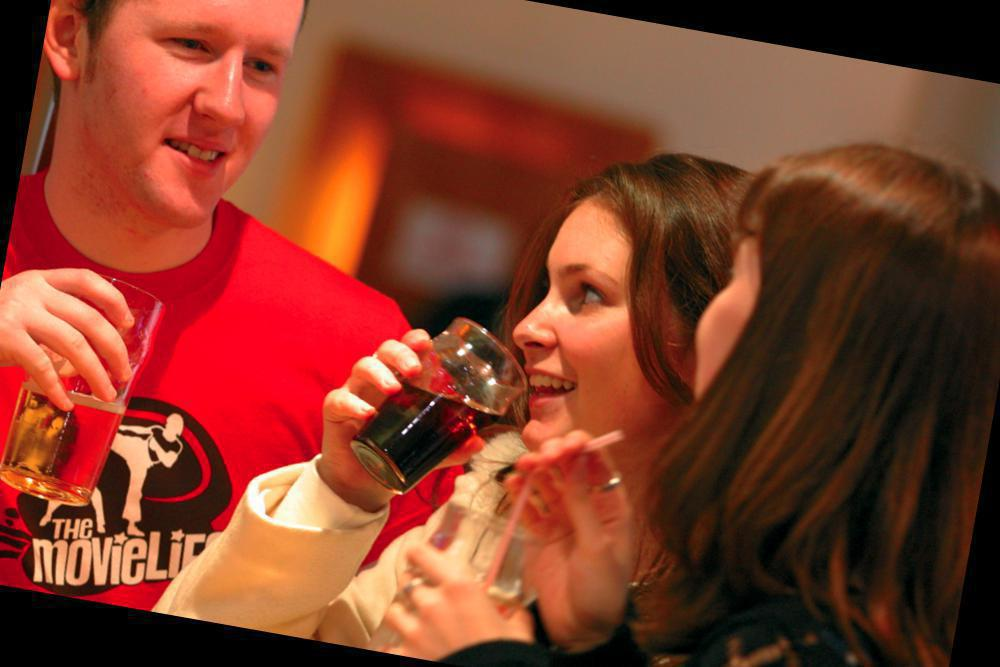Drunk: (115, 0, 290, 226), (513, 192, 655, 453)
